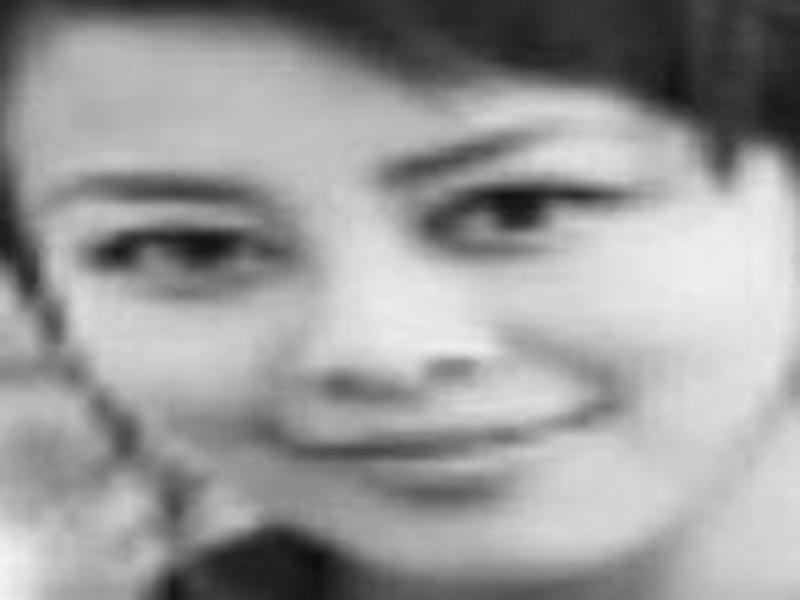without_mask: (4, 8, 791, 600)
